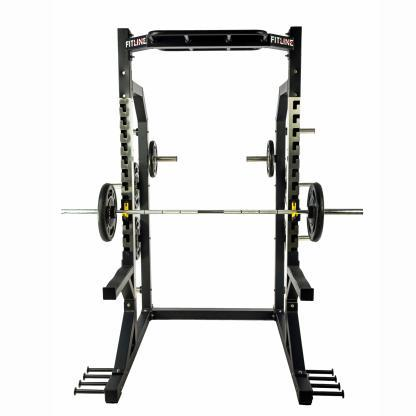smith machine: (62, 26, 365, 407)
